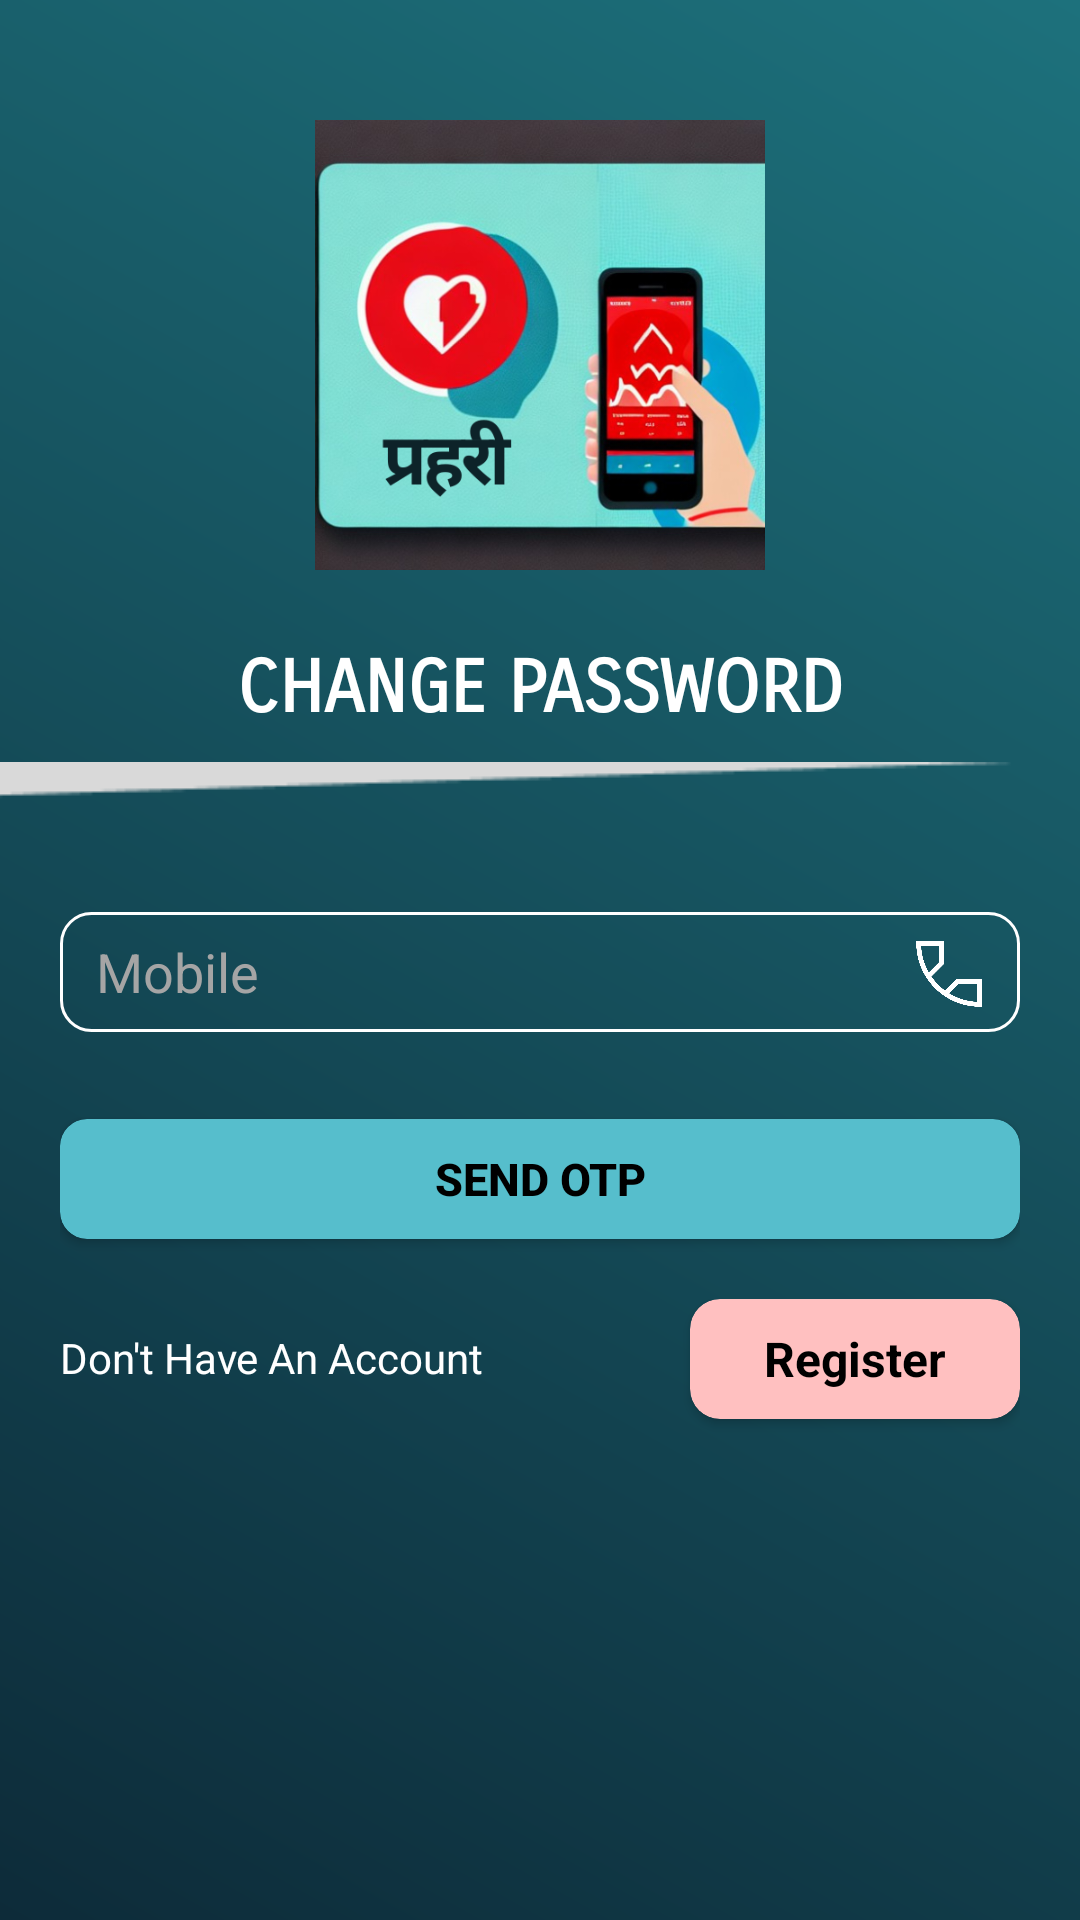

Screen size 1080 x 1920. Icon name, then its center in pixels as point (x, y):
phone: point (949, 974)
